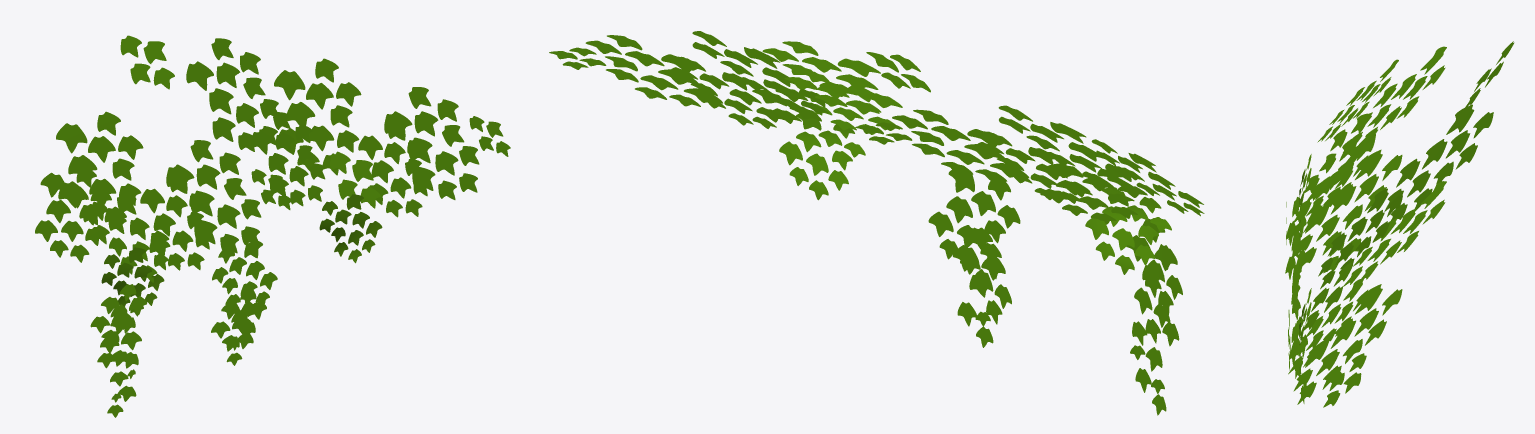
File: Prop_Vine6.glb
3 views of the same model, side by side, from view 1: azimuth 30°, elevation 25°; view 2: azimuth 150°, elevation 25°; view 3: azimuth 270°, elevation 25° (orthographic). The views are drawn at different scales.
Visible parts, largest first — view 1: Prop_Vine6; view 2: Prop_Vine6; view 3: Prop_Vine6.
Boxes of the visible parts, x1,y1,x2,y2 form: Prop_Vine6: (35,35,510,417); Prop_Vine6: (549,31,1204,415); Prop_Vine6: (1285,41,1514,407).
Bounding box in the file's own units: 4.14 × 2.47 × 1.47.
Materials: 1 (1 with a texture image).
